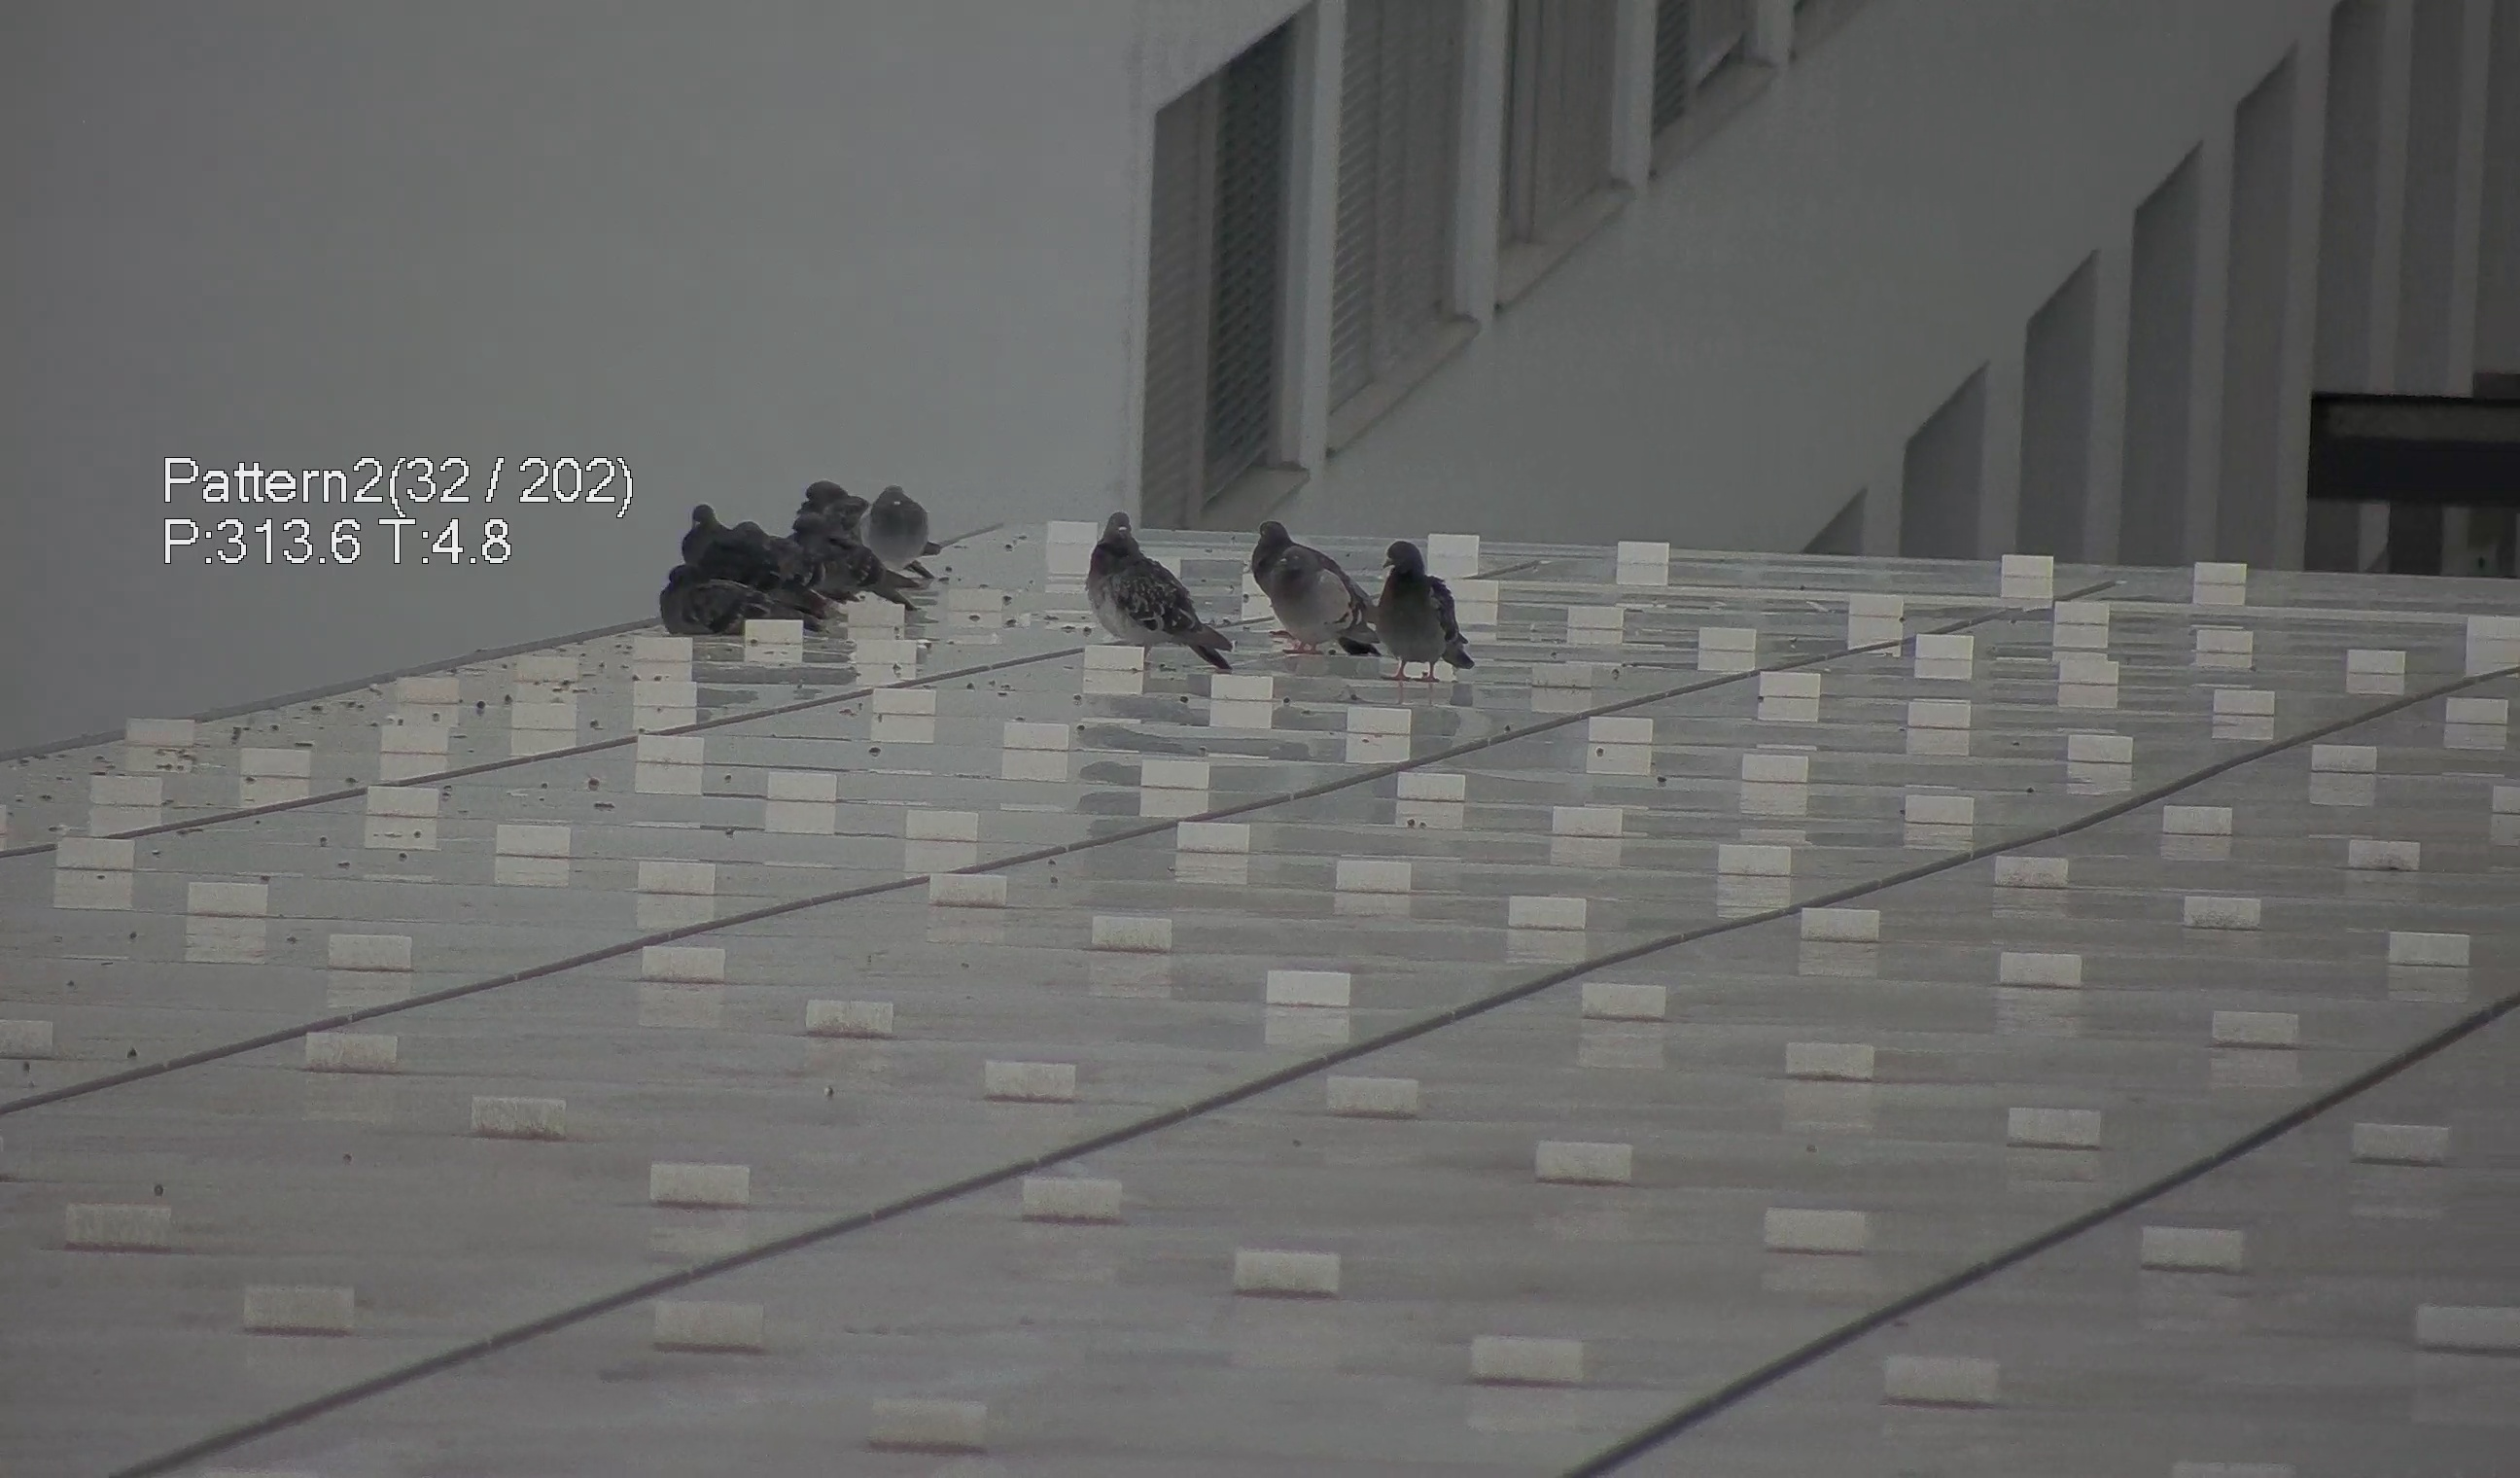Pigeon: (1067, 503, 1245, 688), (1358, 535, 1484, 681), (1266, 547, 1377, 662), (649, 567, 811, 640), (862, 475, 934, 568), (795, 472, 862, 552), (672, 491, 737, 570), (1245, 516, 1296, 595)
